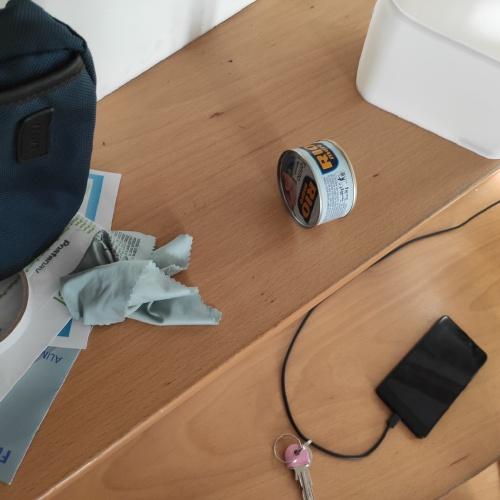tonno: (272, 135, 360, 228)
